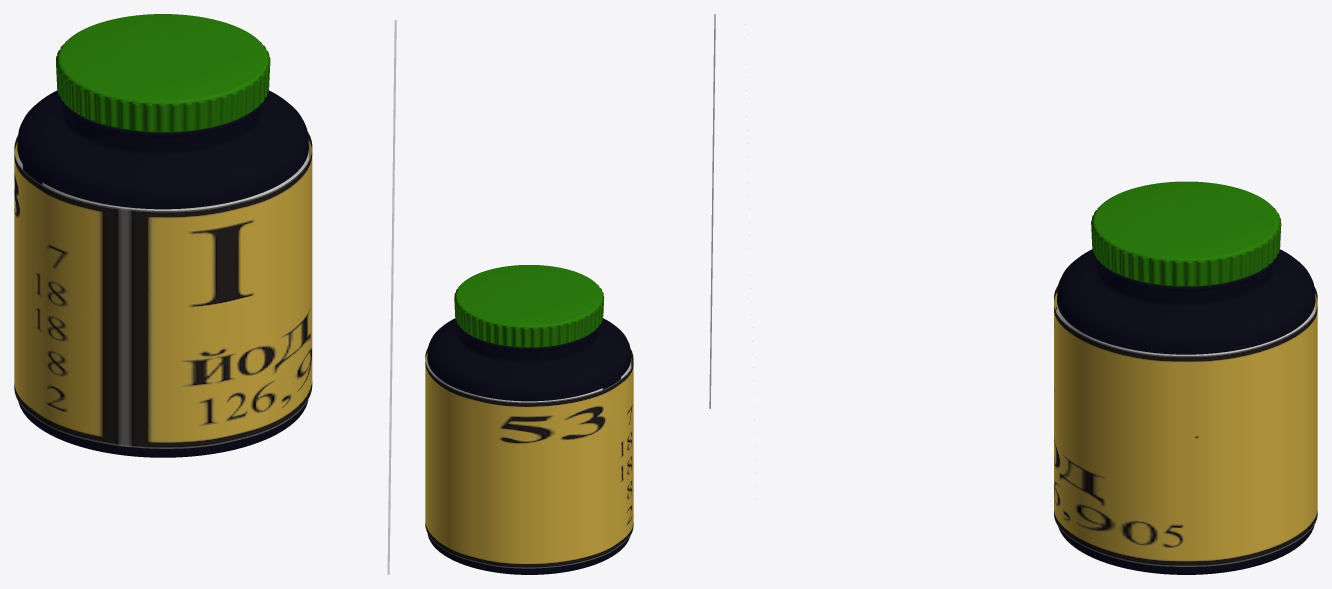
3 views of the same model, side by side, from view 1: azimuth 30°, elevation 25°; view 2: azimuth 150°, elevation 25°; view 3: azimuth 270°, elevation 25° (orthographic). The views are drawn at different scales.
Visible parts, largest first — view 1: Поверхность, Cylinder, Circle, Плоскость; view 2: Поверхность, Cylinder, Circle, Плоскость; view 3: Поверхность, Cylinder, Circle.
Boxes of the visible parts, x1=… form: Поверхность: x1=14, y1=131, x2=312, y2=448; Cylinder: x1=17, y1=90, x2=308, y2=457; Circle: x1=56, y1=14, x2=270, y2=132; Плоскость: x1=387, y1=20, x2=396, y2=574; Поверхность: x1=425, y1=347, x2=633, y2=568; Cylinder: x1=427, y1=318, x2=631, y2=574; Circle: x1=454, y1=265, x2=604, y2=347; Плоскость: x1=709, y1=14, x2=715, y2=408; Поверхность: x1=1054, y1=285, x2=1317, y2=566; Cylinder: x1=1057, y1=249, x2=1315, y2=574; Circle: x1=1091, y1=181, x2=1281, y2=286.
Bounding box in the file's own units: 15.32 × 32.15 × 33.3.
5 materials, 1 textured.
